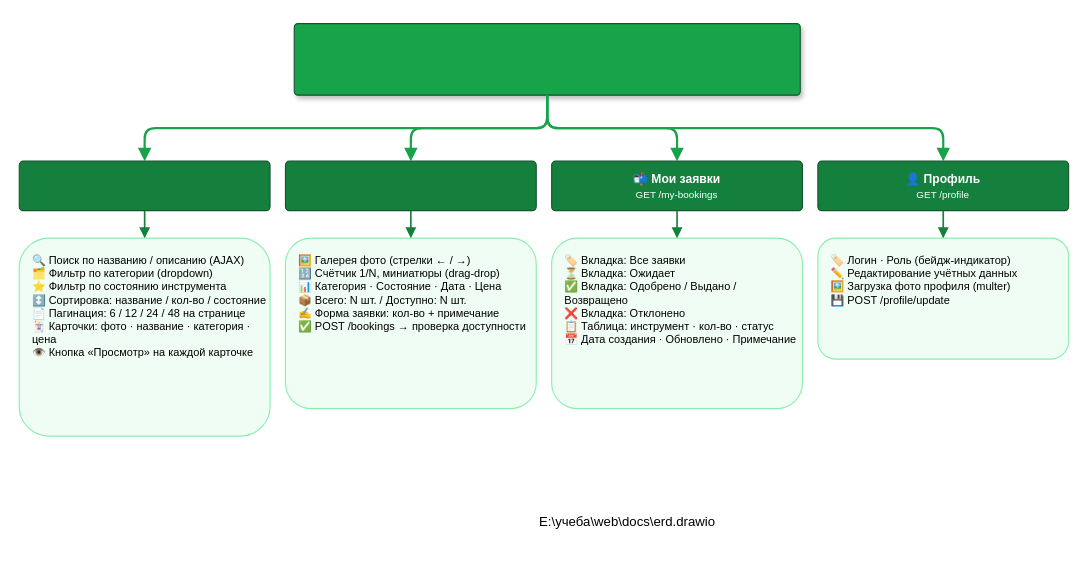
This 1088x565 diagram has some shape labels left out. The shapes that lost their labels are listed below. From the top down, each one's centre as x and y in pixels, then its label:
At (548,60): "👤 Панель пользователя (user) Инвентарь · Мои заявки · Профиль · Выйти".
At (144,185): "📋 Каталог инструментов GET /".
At (410,185): "🔍 Страница инструмента GET /tools/:id".
